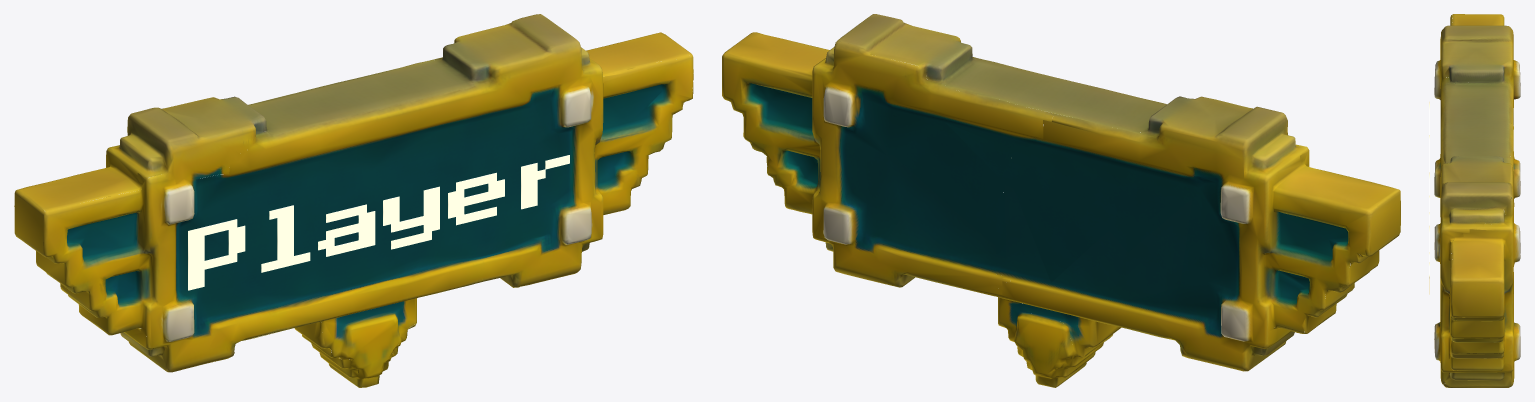
File: player-badge.glb
The picture shows the model from 3 angles, left to right: view 1: azimuth 30°, elevation 25°; view 2: azimuth 150°, elevation 25°; view 3: azimuth 270°, elevation 25°; orthographic projection. The views are drawn at different scales.
Parts seen in each view (by area): view 1: Rodin_Voxel_Wing_Badge, Player_Extruded_Pixel_Lettering; view 2: Rodin_Voxel_Wing_Badge; view 3: Rodin_Voxel_Wing_Badge, Player_Extruded_Pixel_Lettering.
Boxes of the visible parts, x1,y1,x2,y2 form: Rodin_Voxel_Wing_Badge: (14,14,693,387); Player_Extruded_Pixel_Lettering: (188,155,569,290); Rodin_Voxel_Wing_Badge: (722,14,1400,387); Rodin_Voxel_Wing_Badge: (1434,14,1520,387); Player_Extruded_Pixel_Lettering: (1429,101,1429,294).
Size of the model in its own units: 1.91 by 0.8394 by 0.2771.
2 materials, 1 textured.
